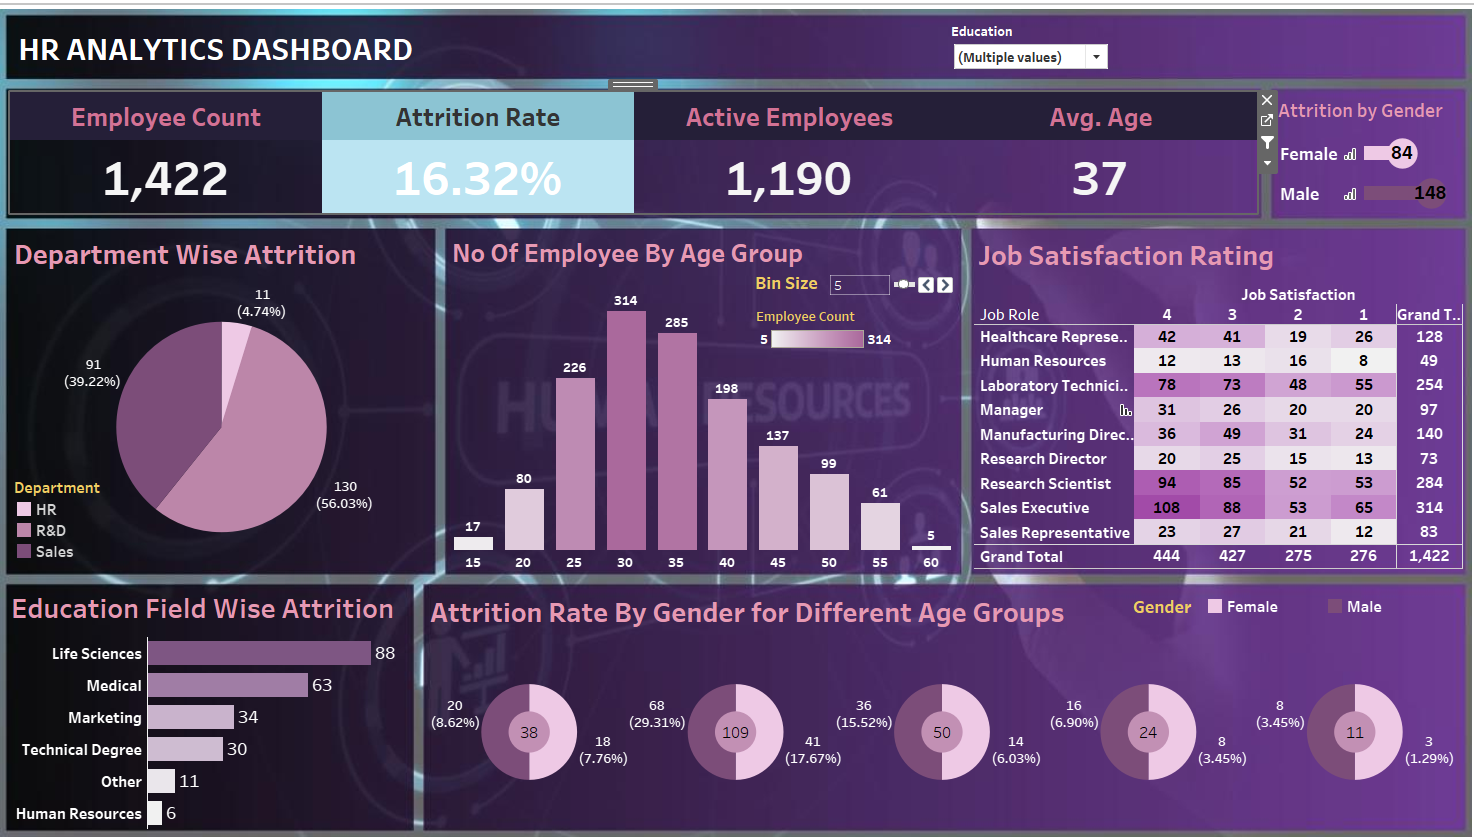

What the dashboard file says about the page in this screenshot:
{"tool":"tableau","page":{"name":"HR analytics dashboard","canvas":[1000,1000],"units":"permille","ordinal":0},"visuals":[{"type":"image","param":"Image/HR background.pptx.jpg","box":[5.1,9.4,989.9,981.2]},{"type":"filter","title":"No Of Employee By Age Group","param":"[federated.1q57qi41642leh10x1fw505z366z].[none:Education:nk]","box":[636.1,29.3,101.3,59.9]},{"type":"text","box":[43.7,31.7,913.9,55.2]},{"type":"worksheet","title":"KPI","mark":"Automatic","box":[40.5,111.5,789.2,142]},{"type":"worksheet","title":"attrition by gender","mark":"Automatic","rows":["Gender"],"cols":["Calculation_1516305739849920512","Calculation_1516305739849920512"],"box":[840.5,112.7,120.2,140.8]},{"type":"worksheet","title":"department wise attrition","mark":"Pie","box":[40.5,274.7,267.7,399.1]},{"type":"worksheet","title":"No Of Employee By Age Group","mark":"Automatic","rows":["Employee Count"],"cols":["Age (bin)"],"box":[317.7,274.7,322.2,400.2]},{"type":"worksheet","title":"Job Satisfaction Rating","mark":"Square","rows":["Job Role"],"cols":["Job Satisfaction"],"box":[650.6,275.8,309.5,396.7]},{"type":"parameter","param":"[Parameters].[Parameter 1]","box":[512,322.8,127.2,48.1]},{"type":"legend","title":"No Of Employee By Age Group","param":"[federated.1q57qi41642leh10x1fw505z366z].[sum:Employee Count:qk]","box":[512.7,363.9,88.6,92.7]},{"type":"legend","title":"department wise attrition","param":"[federated.1q57qi41642leh10x1fw505z366z].[none:Department:nk]","box":[43,563.4,88.6,99.8]},{"type":"worksheet","title":"Education Field Wise Attrition","mark":"Automatic","rows":["Education Field"],"cols":["Calculation_1516305739849920512"],"box":[38.6,690.1,256.3,286.4]},{"type":"worksheet","title":"Attrition Rate By Gender for Different Age Groups","mark":"Pie","rows":["Calculation_2266155078582755330","Calculation_2266155078582755330"],"cols":["CF_age band"],"box":[303.8,694.8,653.2,274.7]},{"type":"legend","title":"Attrition Rate By Gender for Different Age Groups","param":"[federated.1q57qi41642leh10x1fw505z366z].[none:Gender:nk]","box":[751.3,703.1,208.2,44.6]}]}

Visuals, with their boxes on the dashboard's canvas, which has no fixed pixel size, in thousandths of its width and height (x1, y1, x2, y2). These are canvas units, not pixel positions in the 1474x840 screenshot, which may show the page scaled, cropped or inside an application window:
image: x1=5, y1=9, x2=995, y2=991
"No Of Employee By Age Group" filter: x1=636, y1=29, x2=737, y2=89
text: x1=44, y1=32, x2=958, y2=87
"KPI" worksheet: x1=40, y1=112, x2=830, y2=254
"attrition by gender" worksheet: x1=840, y1=113, x2=961, y2=254
"department wise attrition" worksheet (Pie marks): x1=40, y1=275, x2=308, y2=674
"No Of Employee By Age Group" worksheet: x1=318, y1=275, x2=640, y2=675
"Job Satisfaction Rating" worksheet (Square marks): x1=651, y1=276, x2=960, y2=672
parameter: x1=512, y1=323, x2=639, y2=371
"No Of Employee By Age Group" legend: x1=513, y1=364, x2=601, y2=457
"department wise attrition" legend: x1=43, y1=563, x2=132, y2=663
"Education Field Wise Attrition" worksheet: x1=39, y1=690, x2=295, y2=976
"Attrition Rate By Gender for Different Age Groups" worksheet (Pie marks): x1=304, y1=695, x2=957, y2=970
"Attrition Rate By Gender for Different Age Groups" legend: x1=751, y1=703, x2=960, y2=748
